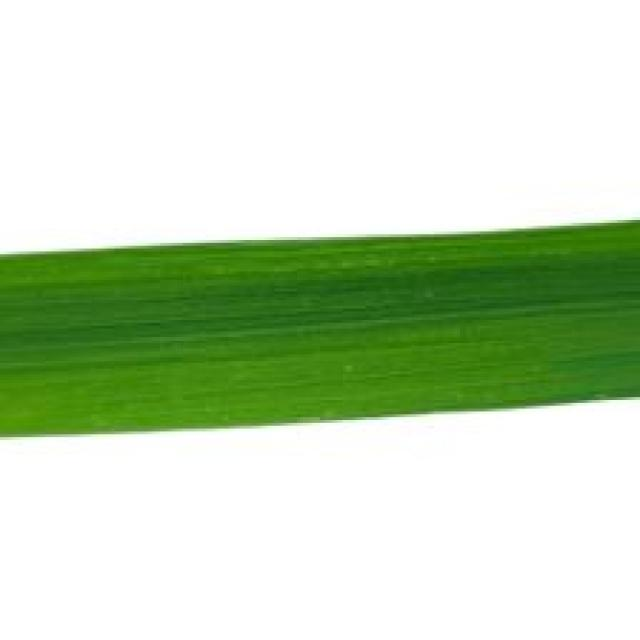Rice___Healthy_Rice_Plant: (0, 221, 637, 439)
